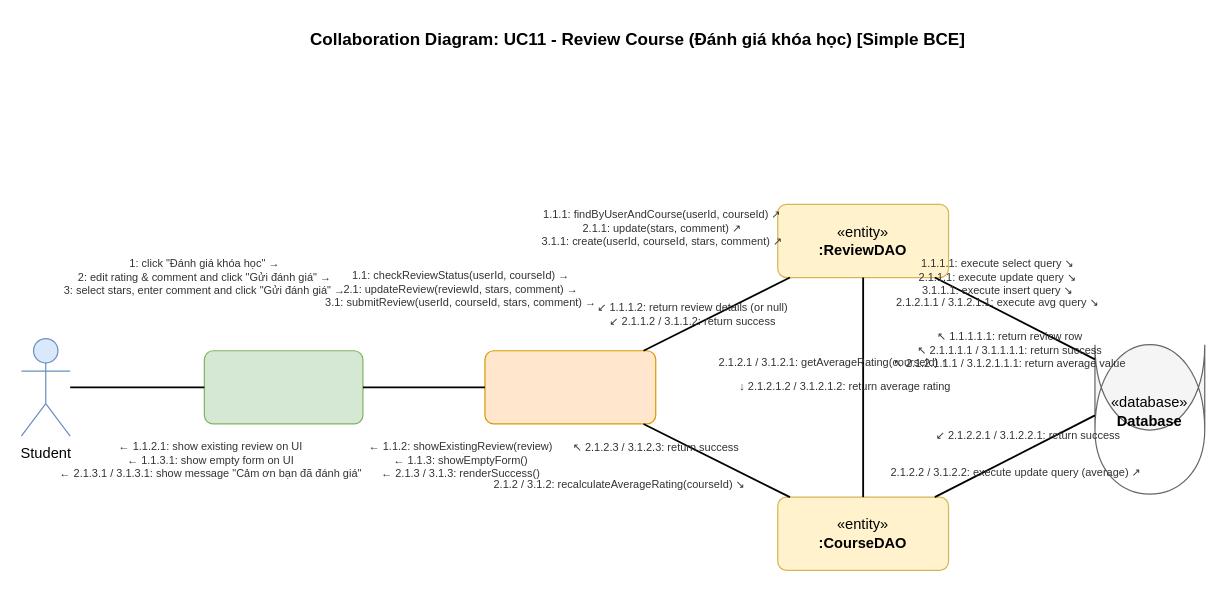
The diagram is 1226 pixels wide and 592 high, and some of its shapes have lost their labels. Each missing label, with the box of its shape:
«boundary» :ReviewBoundary: (203, 350, 363, 424)
«control» :ReviewController: (484, 350, 656, 424)
